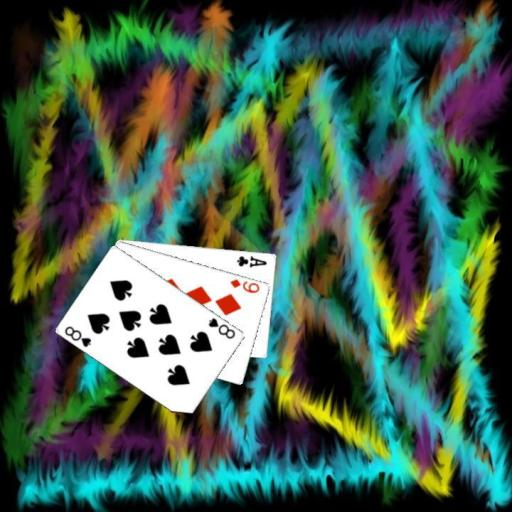8S: (205, 314, 237, 341), (62, 323, 93, 348)
9D: (228, 276, 261, 295)
AC: (234, 252, 268, 269)
